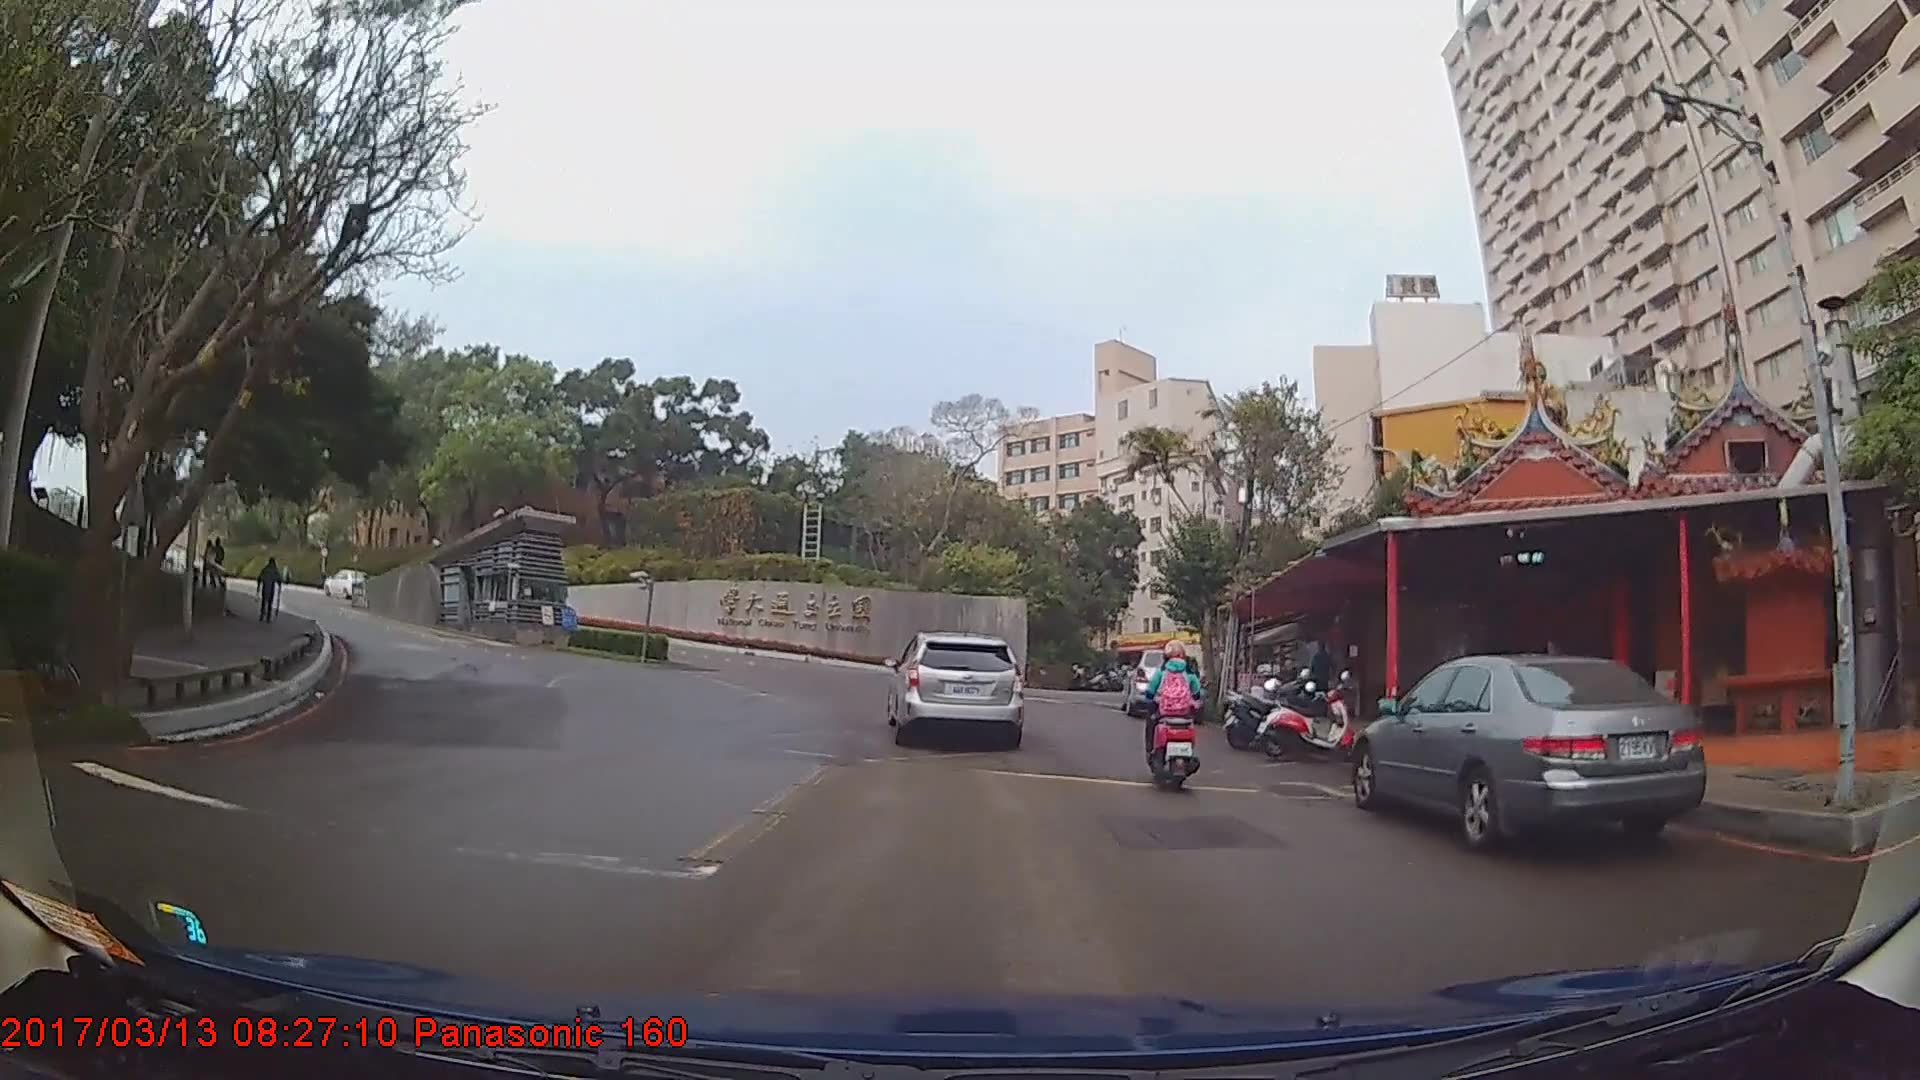pedestrian: (1310, 637, 1341, 725), (259, 562, 286, 629), (210, 537, 230, 591), (200, 540, 220, 593)
rider: (1140, 653, 1211, 811)
vehicle: (1350, 651, 1706, 849), (885, 631, 1024, 749), (1121, 647, 1205, 719), (322, 575, 371, 603)
